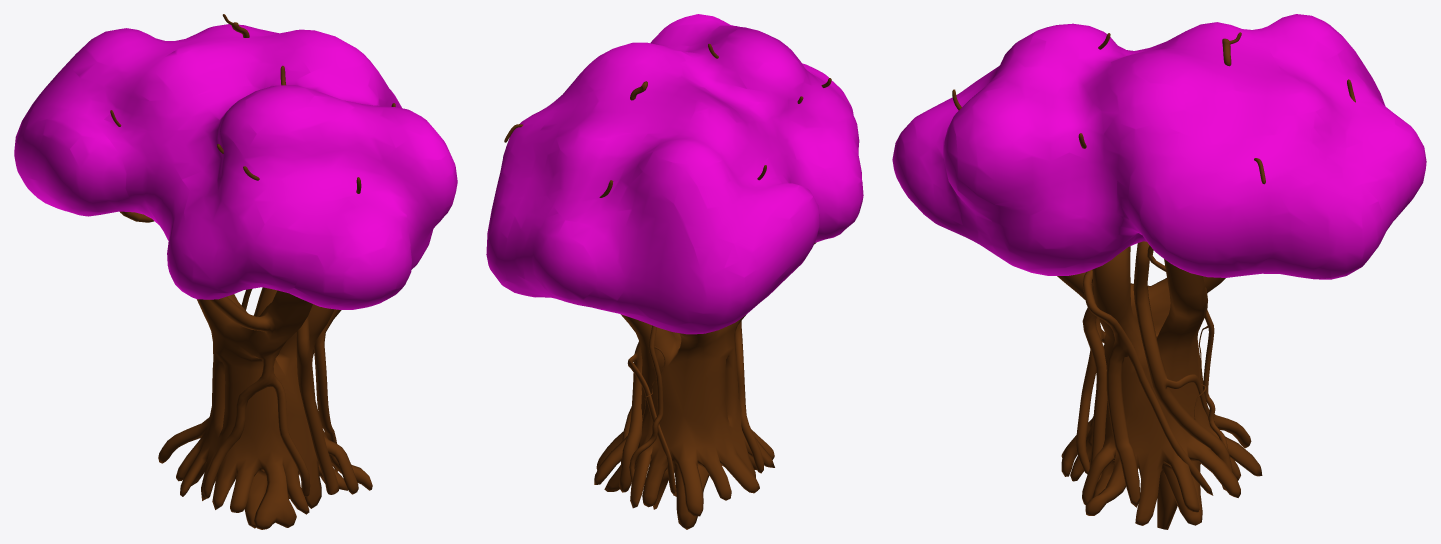
The model's file is tree.fbx.
3 renders of one model, left to right at view 1: azimuth 30°, elevation 25°; view 2: azimuth 150°, elevation 25°; view 3: azimuth 270°, elevation 25°, orthographic. The views are drawn at different scales.
Visible parts, largest first — view 1: Tree_Main; view 2: Tree_Main; view 3: Tree_Main.
Boxes of the visible parts, box(x1,y1,x2,y2) form: Tree_Main: box(14, 14, 457, 529); Tree_Main: box(486, 14, 863, 529); Tree_Main: box(892, 14, 1426, 529).
Bounding box in the file's own units: 952 × 1331 × 1326.
